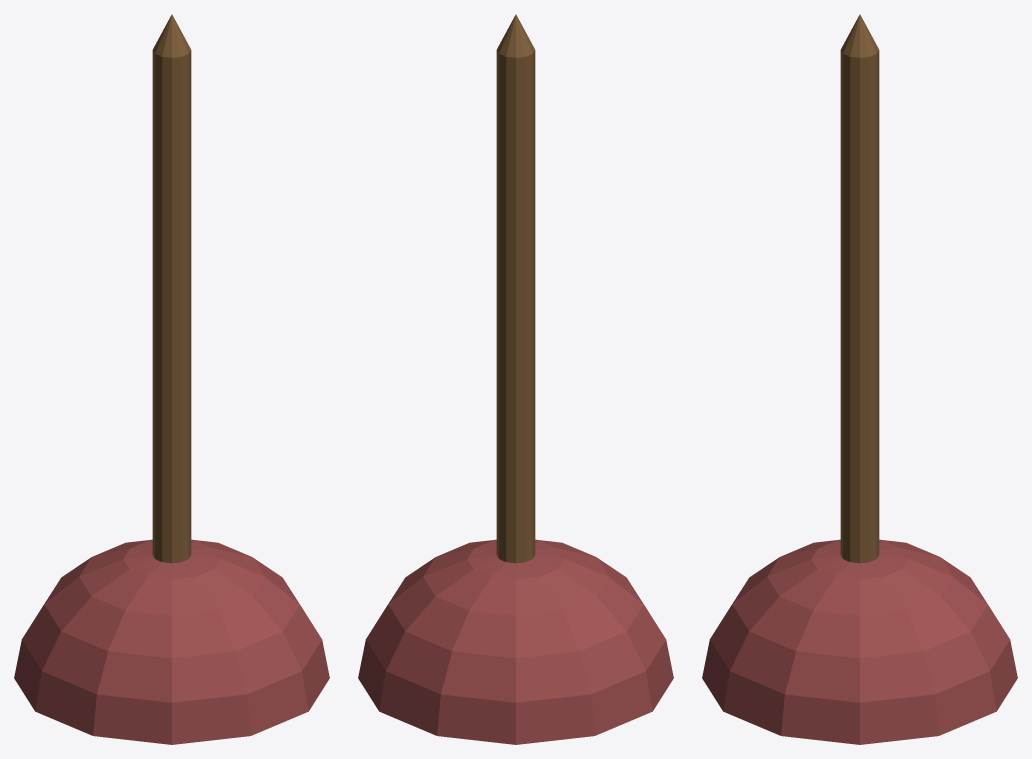
The model's file is Pömpel.fbx.
3 views of the same model, side by side, from view 1: azimuth 30°, elevation 25°; view 2: azimuth 150°, elevation 25°; view 3: azimuth 270°, elevation 25° (orthographic).
Visible parts, largest first — view 1: pSphere5, pCylinder1; view 2: pSphere5, pCylinder1; view 3: pSphere5, pCylinder1.
Boxes of the visible parts, x1,y1,x2,y2 form: pSphere5: [14, 539, 329, 744]; pCylinder1: [152, 14, 191, 563]; pSphere5: [358, 539, 673, 744]; pCylinder1: [496, 14, 535, 563]; pSphere5: [702, 539, 1017, 744]; pCylinder1: [840, 14, 879, 563].
Bounding box in the file's own units: 1.83 × 4.25 × 1.83.
